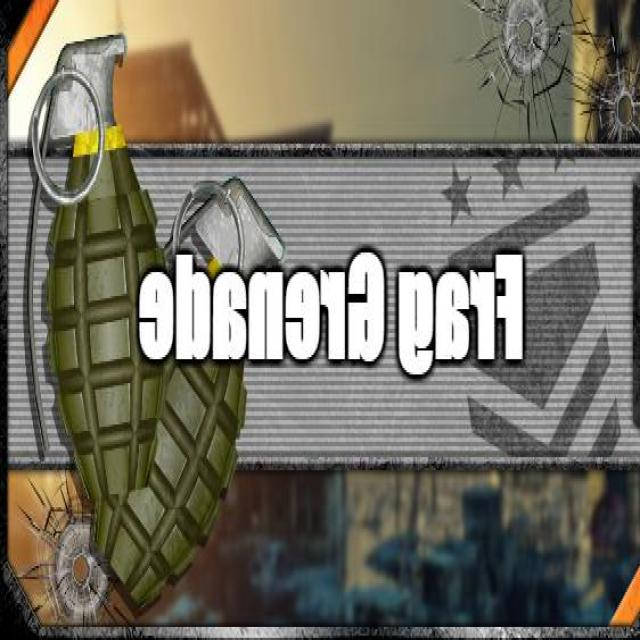grenade: (94, 173, 287, 608), (27, 32, 167, 500)
